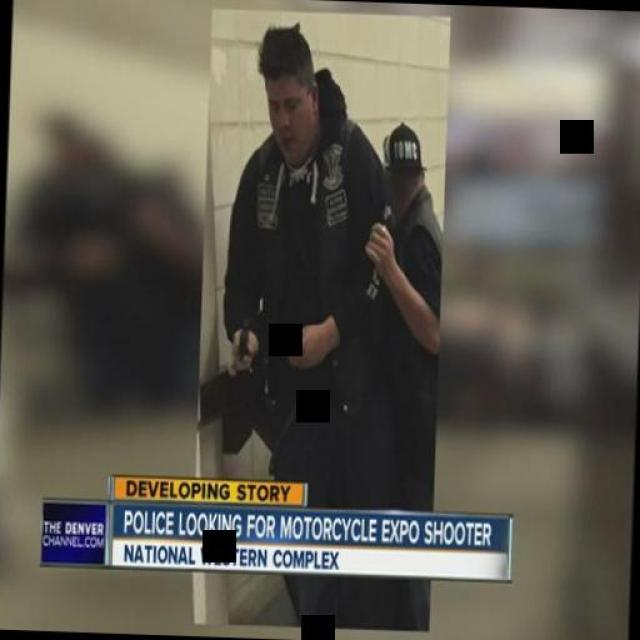gun: (234, 313, 248, 365)
